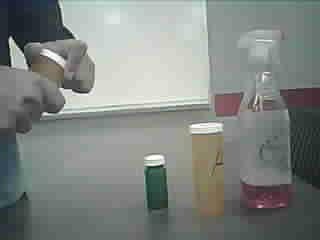Bottle A: (183, 119, 234, 220)
Bottle B: (24, 39, 73, 120)
Bottle C: (141, 152, 180, 222)
hazard: (229, 22, 302, 220)
